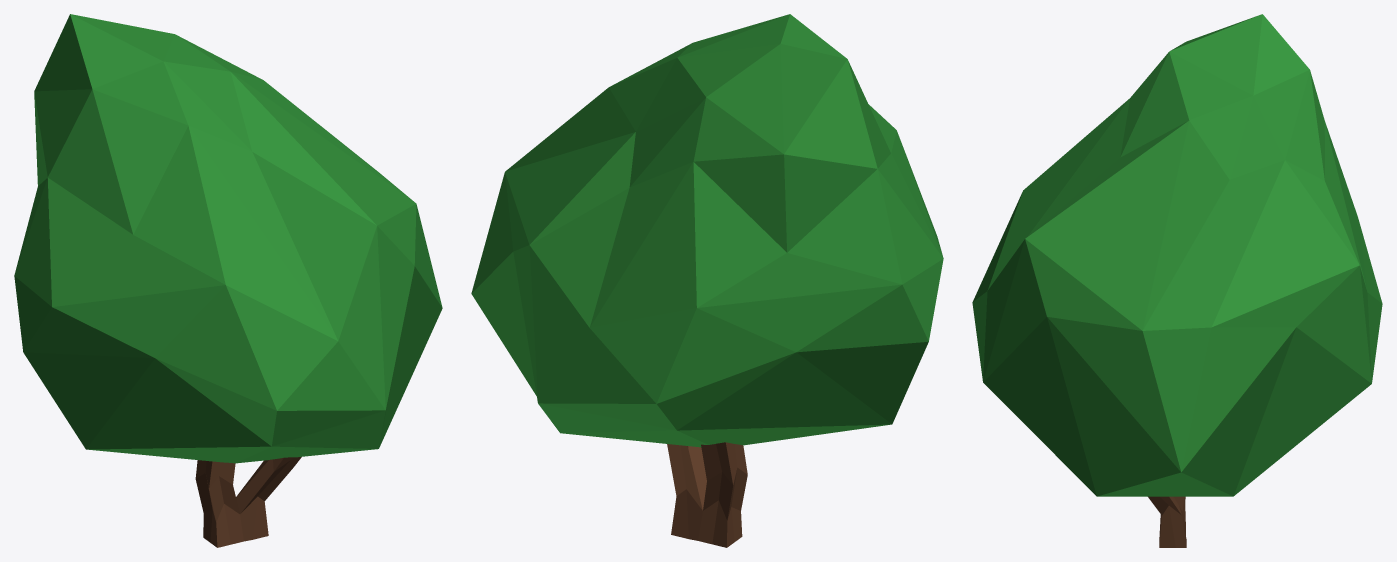
Rendered from Tree_49_Green.fbx.
3 renders of one model, left to right at view 1: azimuth 30°, elevation 25°; view 2: azimuth 150°, elevation 25°; view 3: azimuth 270°, elevation 25°, orthographic. The views are drawn at different scales.
Parts seen in each view (by area): view 1: Tree_49_Green_Part_1, Tree_49_Green_Part_2; view 2: Tree_49_Green_Part_1, Tree_49_Green_Part_2; view 3: Tree_49_Green_Part_1, Tree_49_Green_Part_2.
Part boxes in pixels (x1,y1,x2,y2): Tree_49_Green_Part_1: [14, 14, 442, 463]; Tree_49_Green_Part_2: [195, 457, 301, 547]; Tree_49_Green_Part_1: [471, 14, 943, 447]; Tree_49_Green_Part_2: [667, 442, 747, 547]; Tree_49_Green_Part_1: [972, 14, 1382, 496]; Tree_49_Green_Part_2: [1148, 496, 1186, 547].
Bounding box in the file's own units: 654 × 768 × 606.
